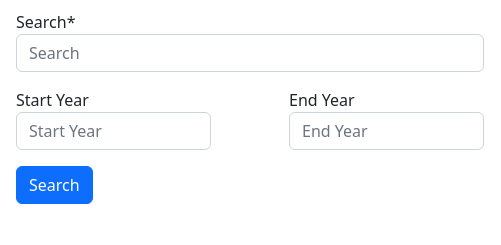
it: it should render error message when search field is empty and user submits
Click the button with test id "submit" at (54, 185), box [16,166,93,204]
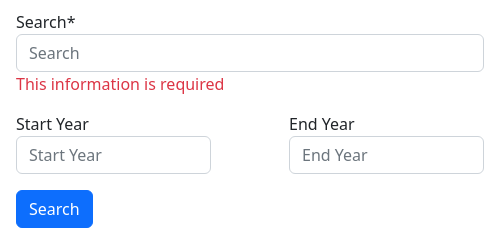
Expected: the text "This information is required" is shown, [16,73,224,95]
